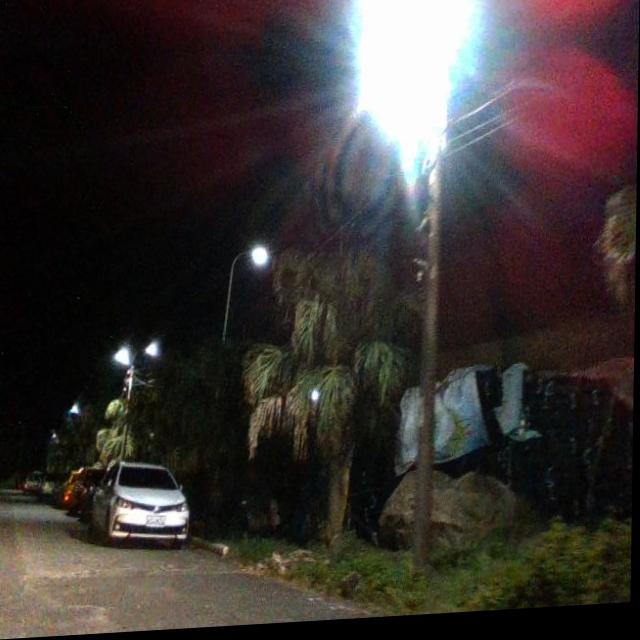pollute: (370, 358, 635, 569)
